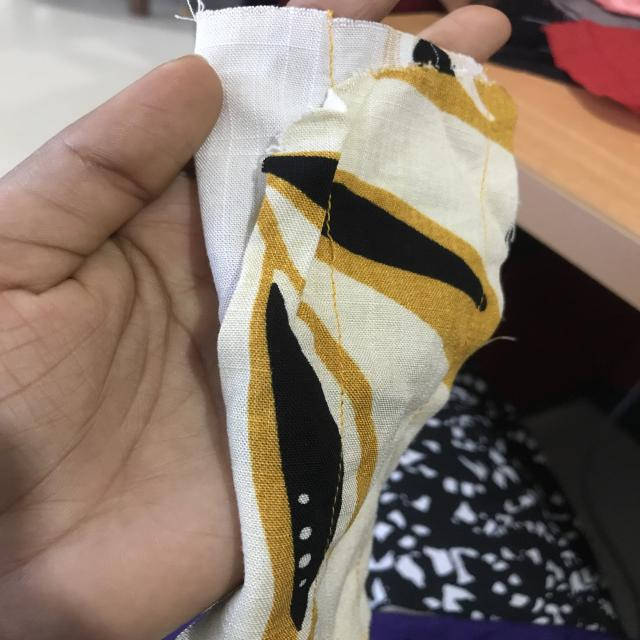skip: (319, 232, 351, 276)
